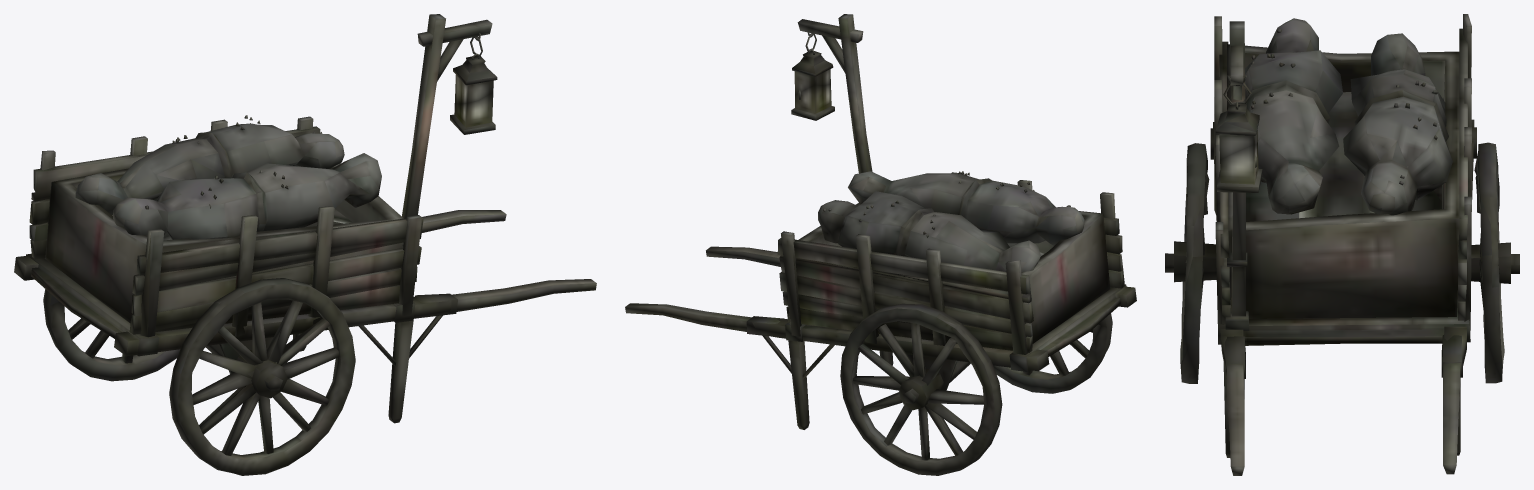
The model's file is plague_cart.glb.
The picture shows the model from 3 angles, left to right: view 1: azimuth 30°, elevation 25°; view 2: azimuth 150°, elevation 25°; view 3: azimuth 270°, elevation 25°; orthographic projection. The views are drawn at different scales.
Visible parts, largest first — view 1: tripo_node_3952c150-45f0-445b-8555-e77255e72fb2; view 2: tripo_node_3952c150-45f0-445b-8555-e77255e72fb2; view 3: tripo_node_3952c150-45f0-445b-8555-e77255e72fb2.
Part boxes in pixels (box(x1,y1,x2,y2)): tripo_node_3952c150-45f0-445b-8555-e77255e72fb2: box(14, 14, 596, 475); tripo_node_3952c150-45f0-445b-8555-e77255e72fb2: box(625, 14, 1136, 475); tripo_node_3952c150-45f0-445b-8555-e77255e72fb2: box(1165, 14, 1519, 475).
Size of the model in its own units: 0.998 by 0.7833 by 0.5488.
Materials: 1 (1 with a texture image).
